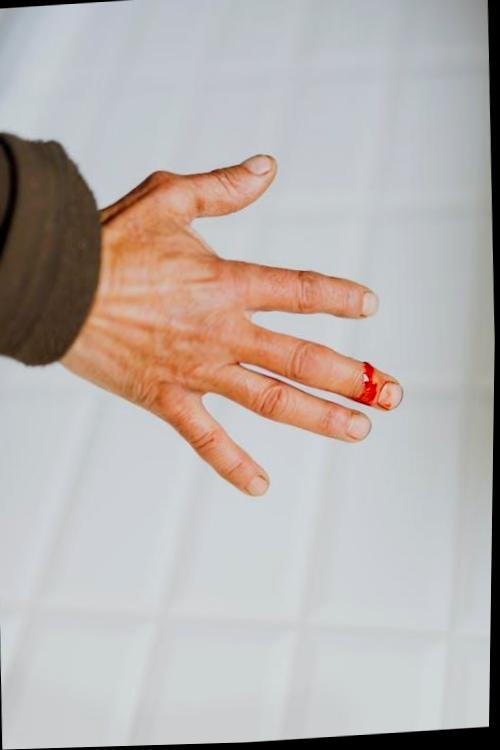Fire: (350, 365, 405, 413)
